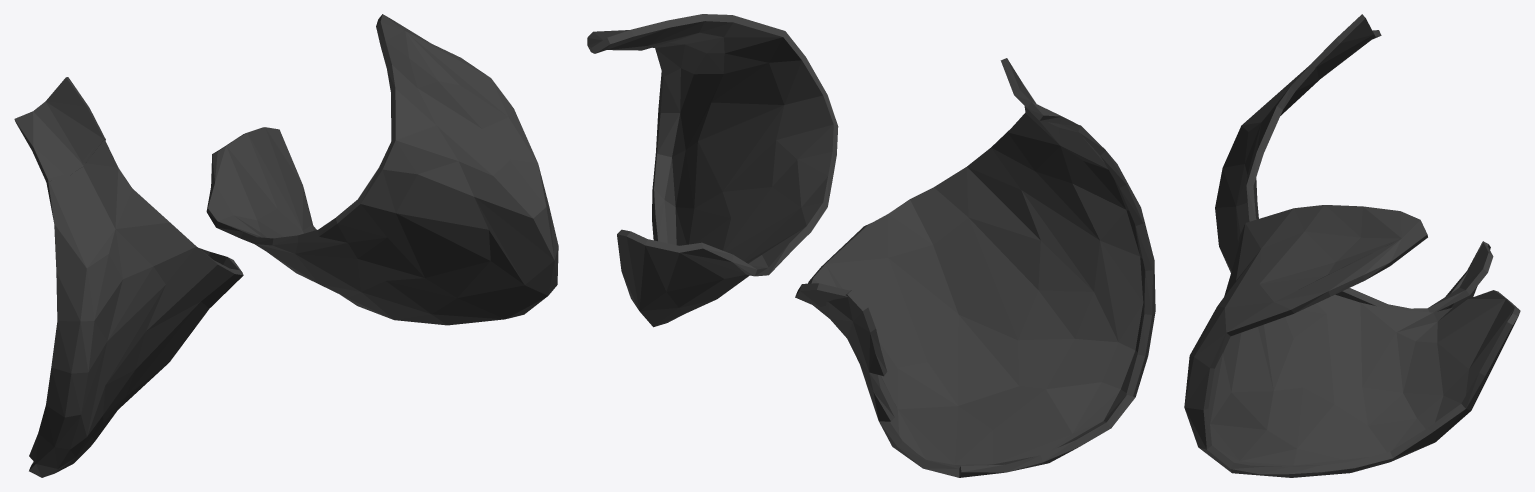
The model's file is l1_caudal_articular_process.glb.
3 renders of one model, left to right at view 1: azimuth 30°, elevation 25°; view 2: azimuth 150°, elevation 25°; view 3: azimuth 270°, elevation 25°, orthographic. The views are drawn at different scales.
Parts seen in each view (by area): view 1: l1_caudal_articular_process; view 2: l1_caudal_articular_process; view 3: l1_caudal_articular_process.
Part boxes in pixels (x1,y1,x2,y2): l1_caudal_articular_process: (14,14,558,477); l1_caudal_articular_process: (587,14,1155,477); l1_caudal_articular_process: (1184,14,1520,477).
Size of the model in its own units: 17.79 by 13.55 by 10.92.
1 material, 1 textured.
